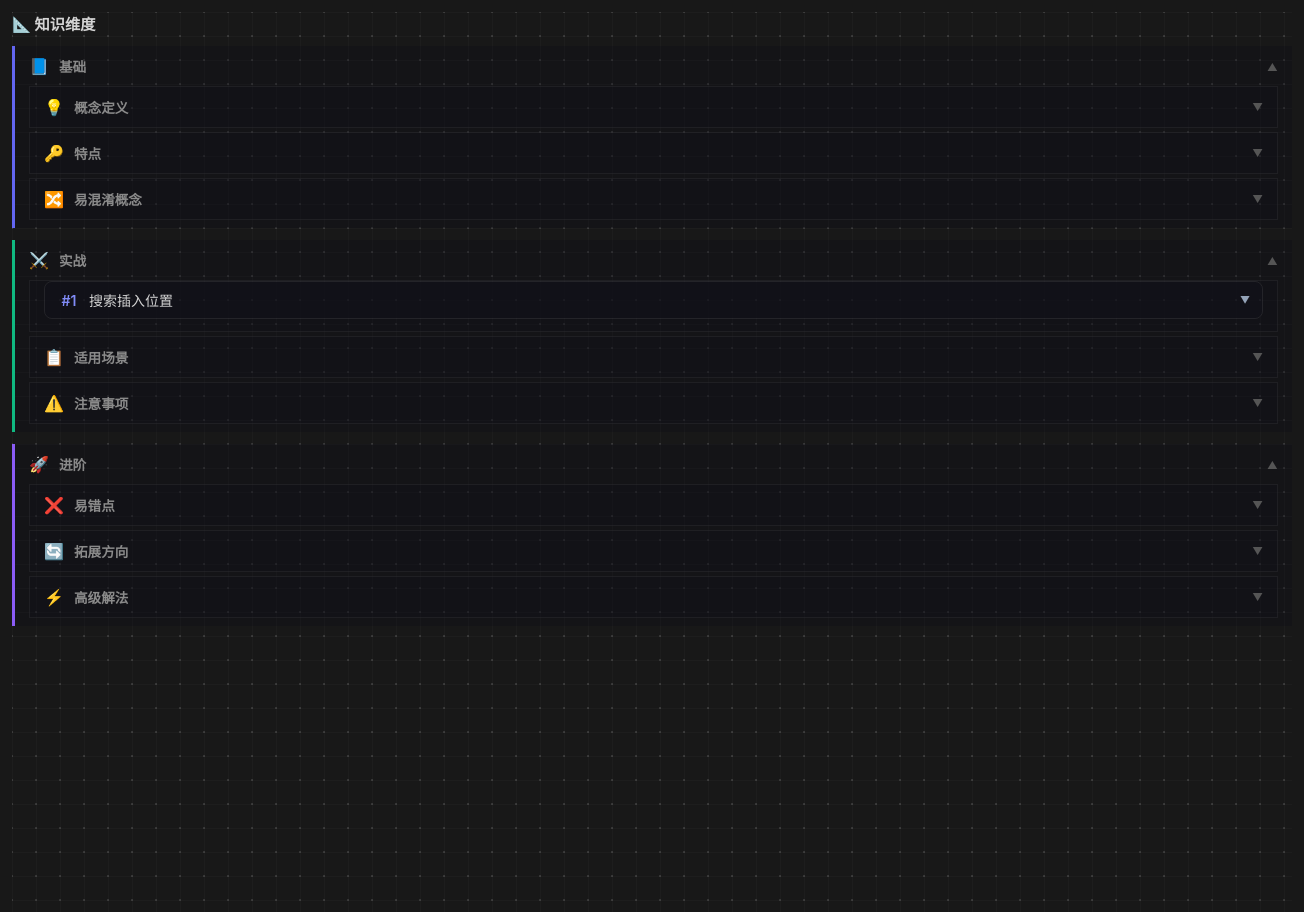
DimensionSection › clicking a collapsed dimension header expands it
This screenshot has width=1304, height=912.
Expected: the text "忘记处理边界条件" is not shown
Click the button "❌ 易错点 ▼".
click(94, 506)  # box x1=30 y1=485 x2=1277 y2=525
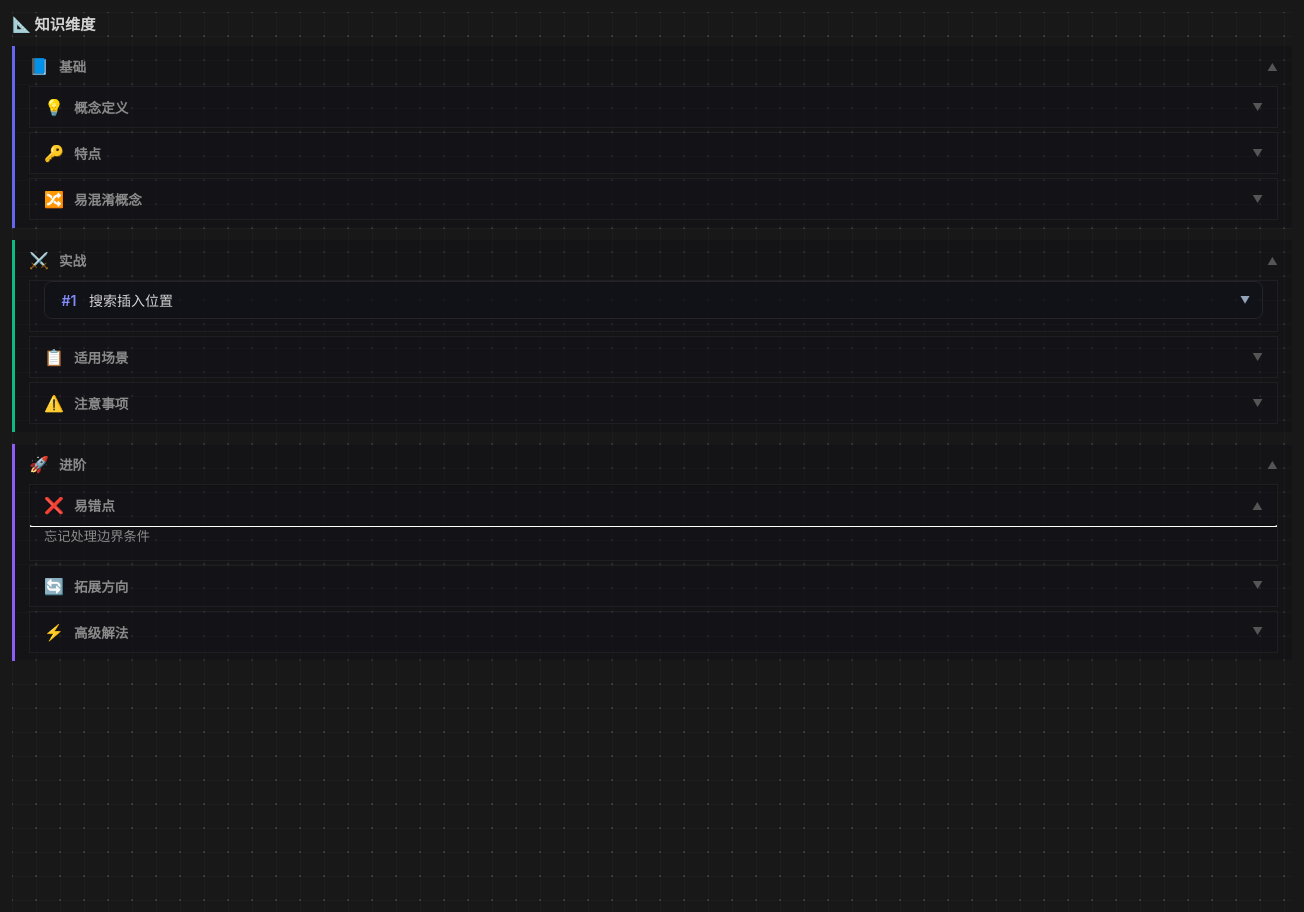
Expected: the text "忘记处理边界条件" is shown, x1=44 y1=528 x2=150 y2=544
